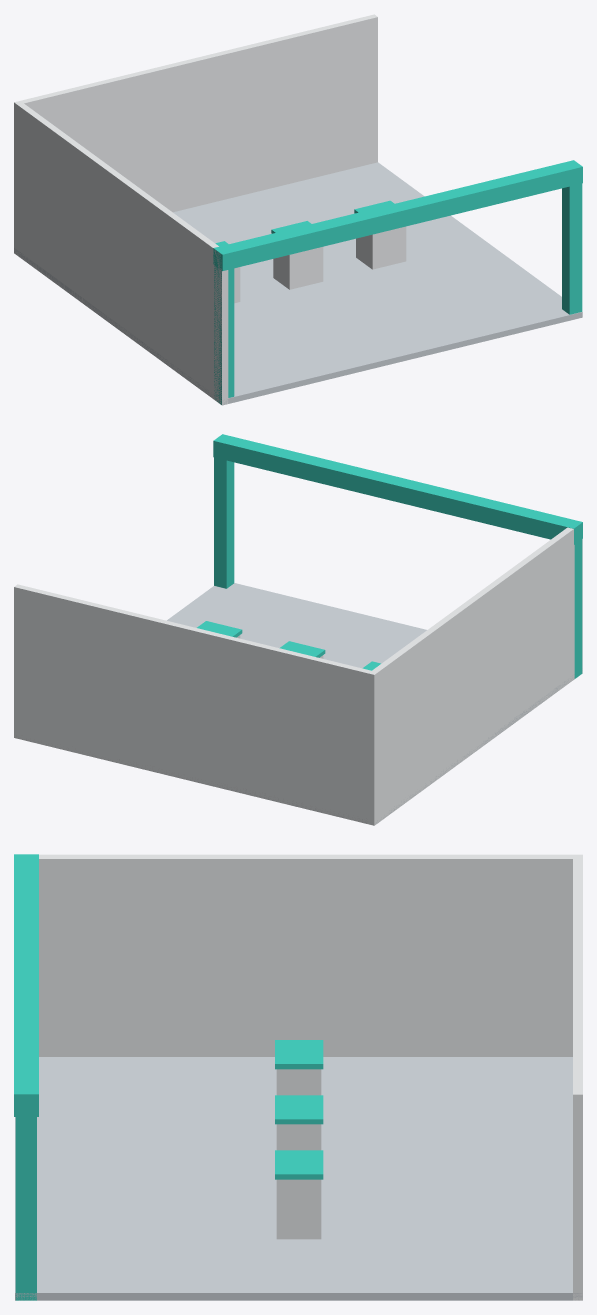
3 renders of one model, top to bottom at view 1: azimuth 30°, elevation 25°; view 2: azimuth 150°, elevation 25°; view 3: azimuth 270°, elevation 25°, orthographic. The views are drawn at different scales.
Visible parts, largest first — view 1: Exhibition Booth Concept; view 2: Exhibition Booth Concept; view 3: Exhibition Booth Concept.
Boxes of the visible parts, x1,y1,x2,y2 form: Exhibition Booth Concept: [14, 14, 582, 405]; Exhibition Booth Concept: [14, 434, 582, 825]; Exhibition Booth Concept: [14, 854, 582, 1300].
Bounding box in the file's own units: 8 × 3.2 × 8.01.
